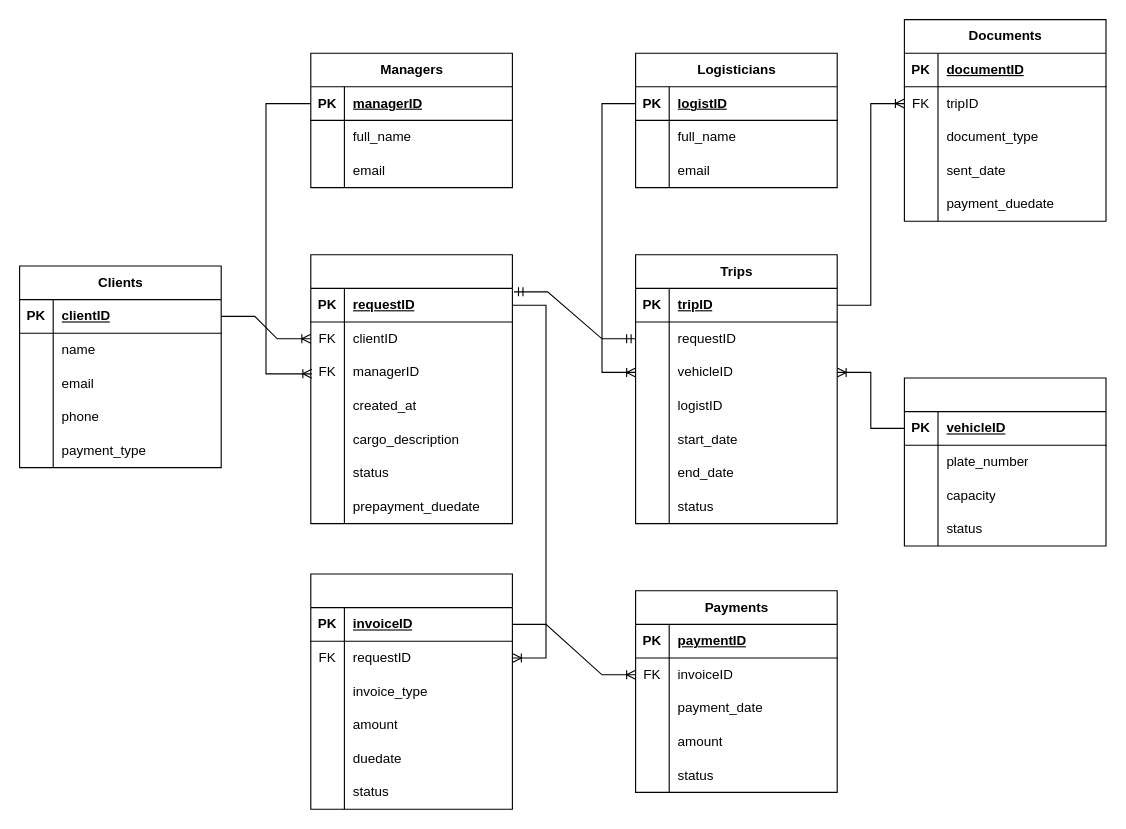
This 1126x829 diagram has some shape labels left out. The shapes that lost their labels are listed below. From the top down, each one's box as (x1, y1, x2, y2) in pixels, then its label:
(310, 254, 512, 524): Requests
(903, 377, 1106, 546): Vehicles
(310, 573, 512, 809): Invoices
